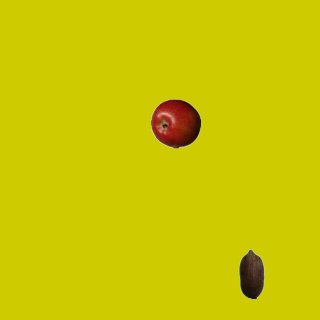Apple Braeburn: (150, 98, 200, 148)
Nut Pecan: (226, 248, 276, 298)
